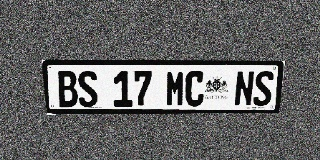1: (112, 71, 133, 107)
7: (133, 71, 152, 107)
B: (56, 71, 79, 107)
C: (185, 71, 205, 106)
M: (166, 71, 185, 107)
N: (234, 71, 255, 106)
S: (77, 71, 98, 107), (253, 71, 274, 106)
